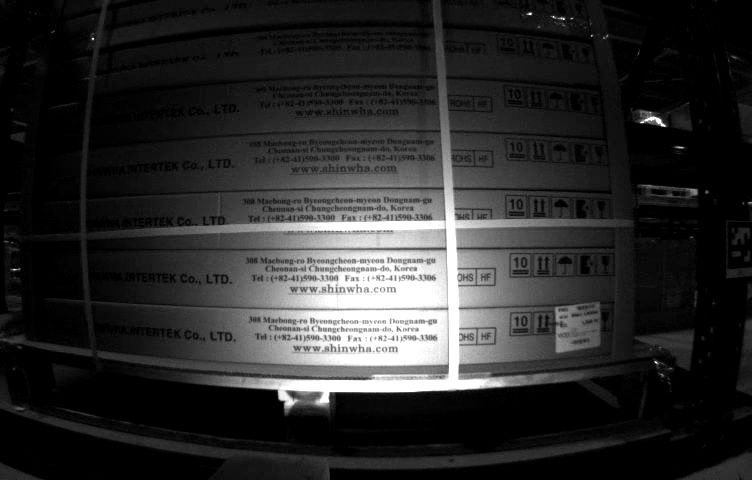True Barcode: (555, 299, 601, 352)
